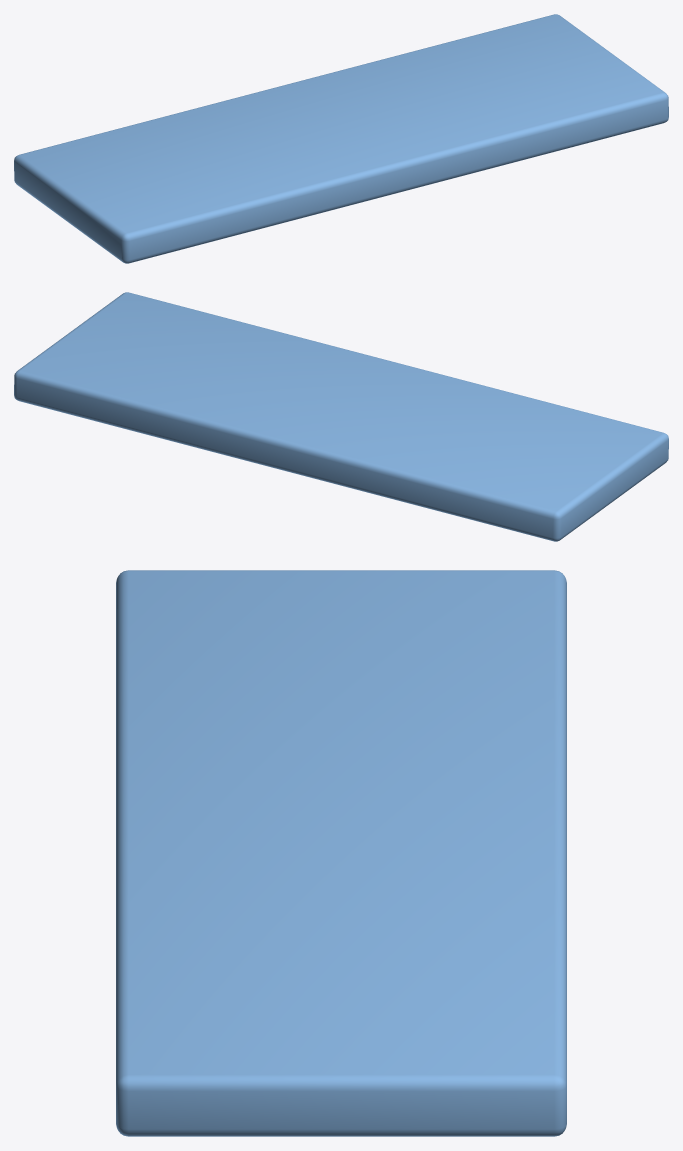
The model's file is table.fbx.
3 renders of one model, top to bottom at view 1: azimuth 30°, elevation 25°; view 2: azimuth 150°, elevation 25°; view 3: azimuth 270°, elevation 25°, orthographic. The views are drawn at different scales.
Visible parts, largest first — view 1: Surgery table; view 2: Surgery table; view 3: Surgery table.
Part boxes in pixels (left/top/right/bottom): Surgery table: left=14, top=14, right=668, bottom=263; Surgery table: left=14, top=292, right=668, bottom=541; Surgery table: left=116, top=570, right=566, bottom=1136.
Size of the model in its own units: 200 by 13.98 by 71.42.
